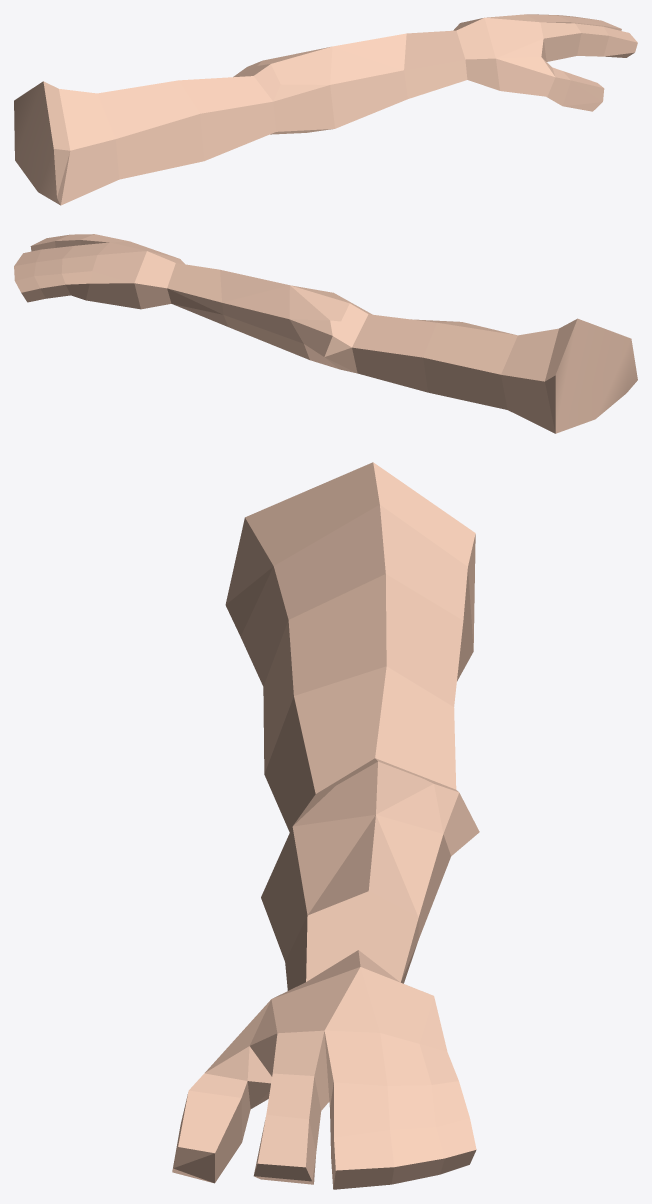
Rendered from ZombieLeftArm.fbx.
3 renders of one model, top to bottom at view 1: azimuth 30°, elevation 25°; view 2: azimuth 150°, elevation 25°; view 3: azimuth 270°, elevation 25°, orthographic. The views are drawn at different scales.
Parts seen in each view (by area): view 1: polySurface22; view 2: polySurface22; view 3: polySurface22.
Boxes of the visible parts, x1,y1,x2,y2 form: polySurface22: (14, 14, 637, 205); polySurface22: (14, 234, 637, 433); polySurface22: (172, 462, 479, 1189).
Bounding box in the file's own units: 83.35 × 16.12 × 18.91.
